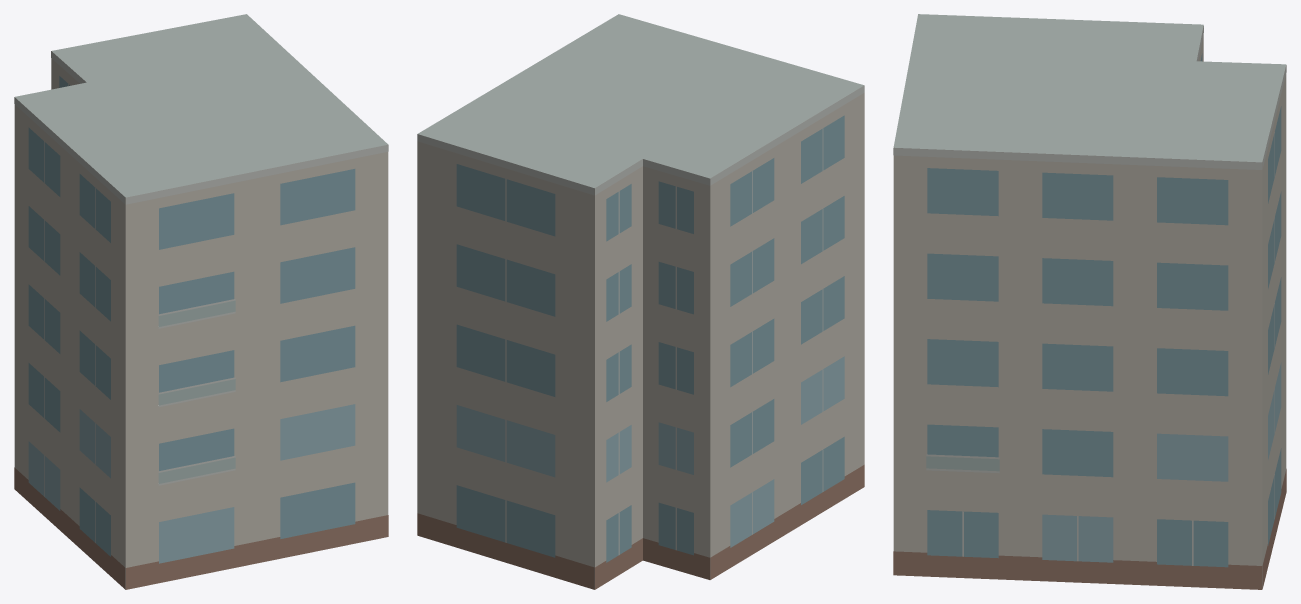
The model's file is survey-upis-33003065.glb.
The picture shows the model from 3 angles, left to right: view 1: azimuth 30°, elevation 25°; view 2: azimuth 150°, elevation 25°; view 3: azimuth 270°, elevation 25°; orthographic projection. The views are drawn at different scales.
Parts seen in each view (by area): view 1: survey-upis-33003065.tmp; view 2: survey-upis-33003065.tmp; view 3: survey-upis-33003065.tmp.
Boxes of the visible parts, x1=… form: survey-upis-33003065.tmp: x1=14, y1=14, x2=388, y2=589; survey-upis-33003065.tmp: x1=417, y1=14, x2=864, y2=589; survey-upis-33003065.tmp: x1=893, y1=14, x2=1286, y2=589.
Size of the model in its own units: 10.06 by 13.5 by 11.26.
